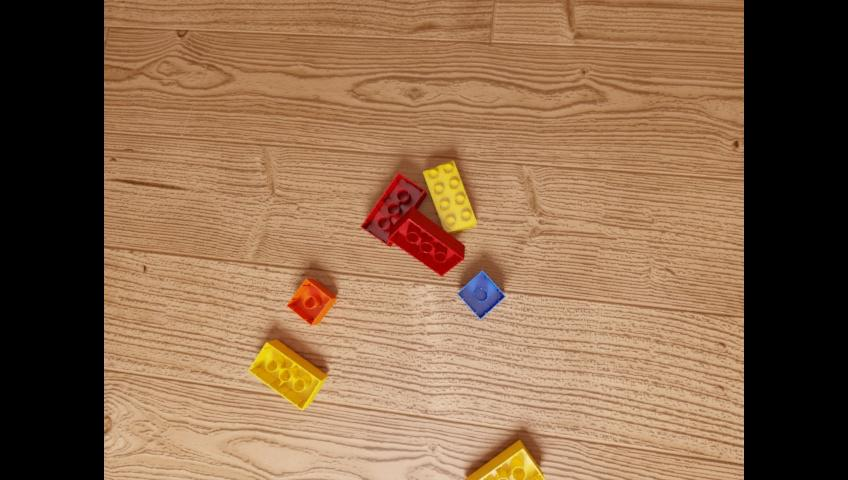2x2_blue: (457, 270, 505, 319)
2x2_orange: (286, 278, 337, 325)
4x2_red: (387, 206, 464, 276), (360, 172, 426, 246)
4x2_yellow: (248, 339, 327, 410), (423, 160, 475, 234), (463, 439, 545, 480)
